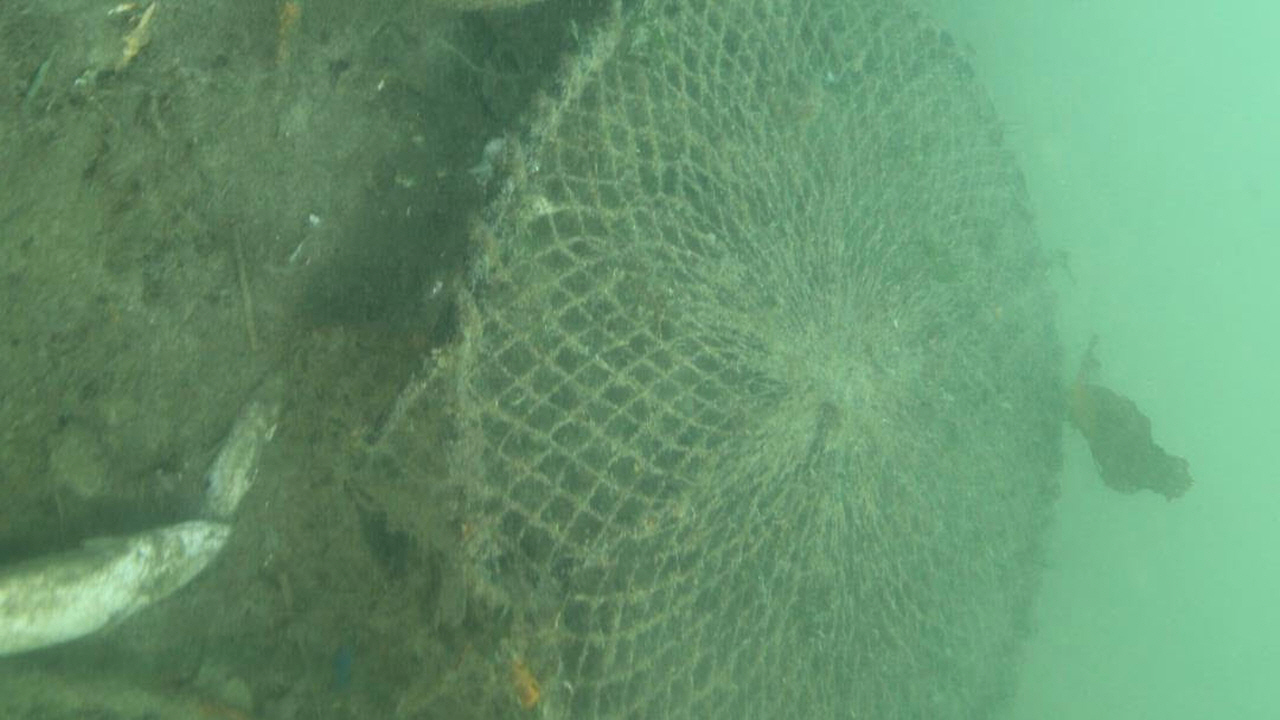circular fish trap: (441, 0, 1066, 720)
